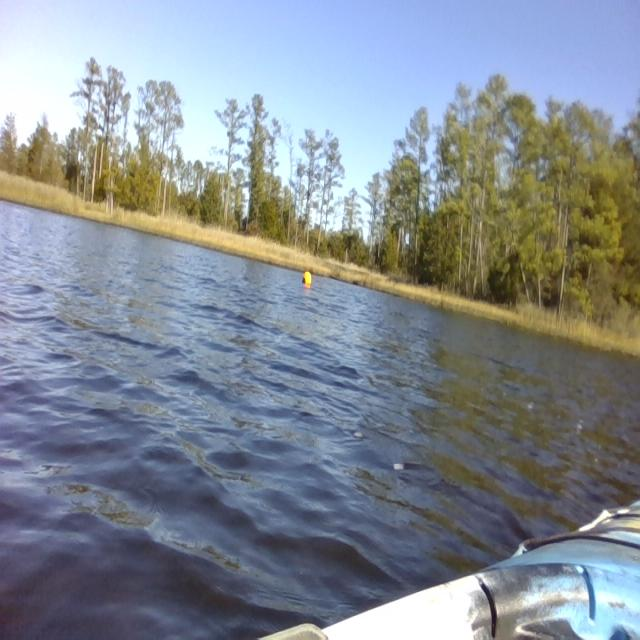Buoy: (300, 267, 313, 289)
